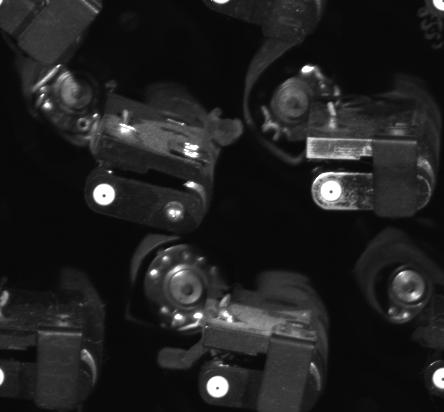fiber: (87, 177, 121, 213), (202, 369, 233, 403), (318, 176, 348, 205), (429, 365, 444, 392)
